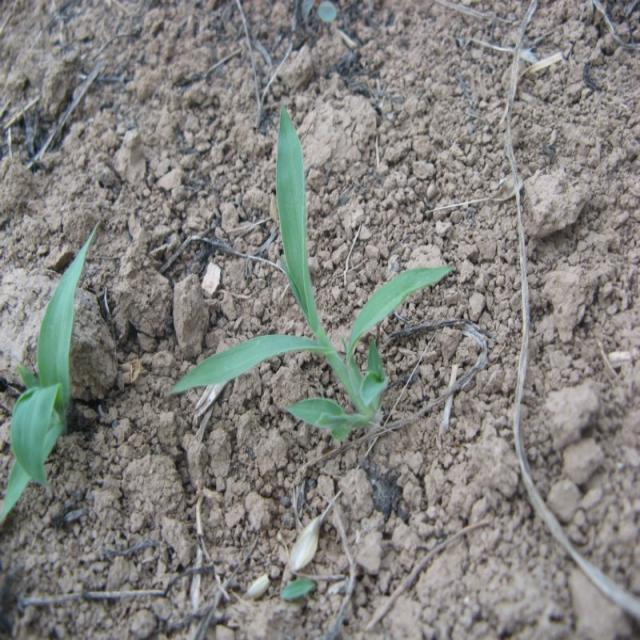bg: (170, 104, 454, 446)
